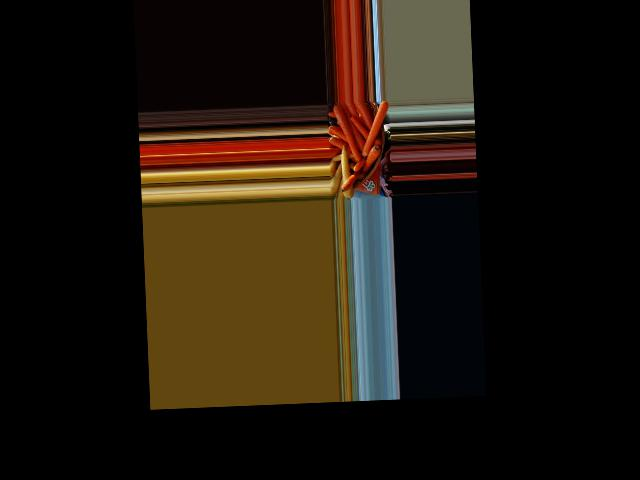carrot: (362, 147, 383, 177)
